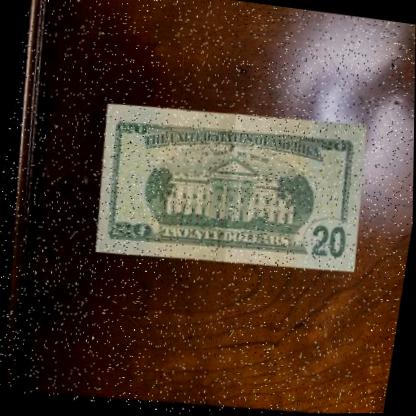dollar_back: (80, 90, 375, 292)
